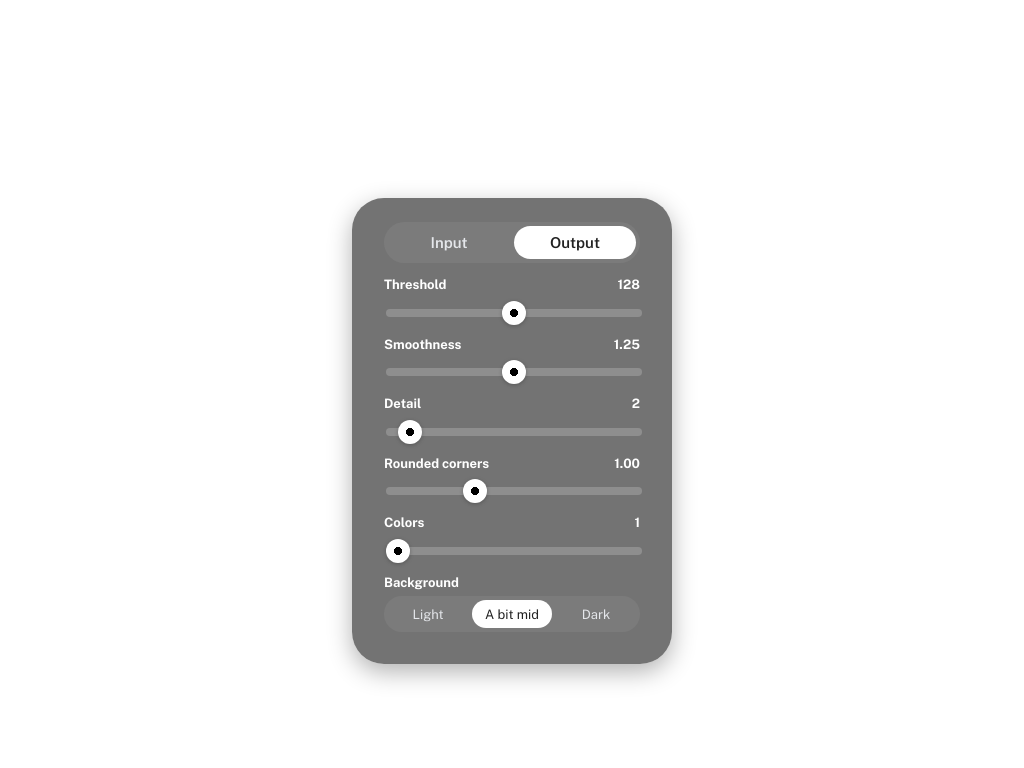
Test: SettingsPanel › shows Contrast and Saturation on Input tab
This screenshot has width=1024, height=768.
What coordinates should you click on to do the following:
click the tab "Input"
I would click on:
 (449, 243)
Its box is [388,226,510,259].
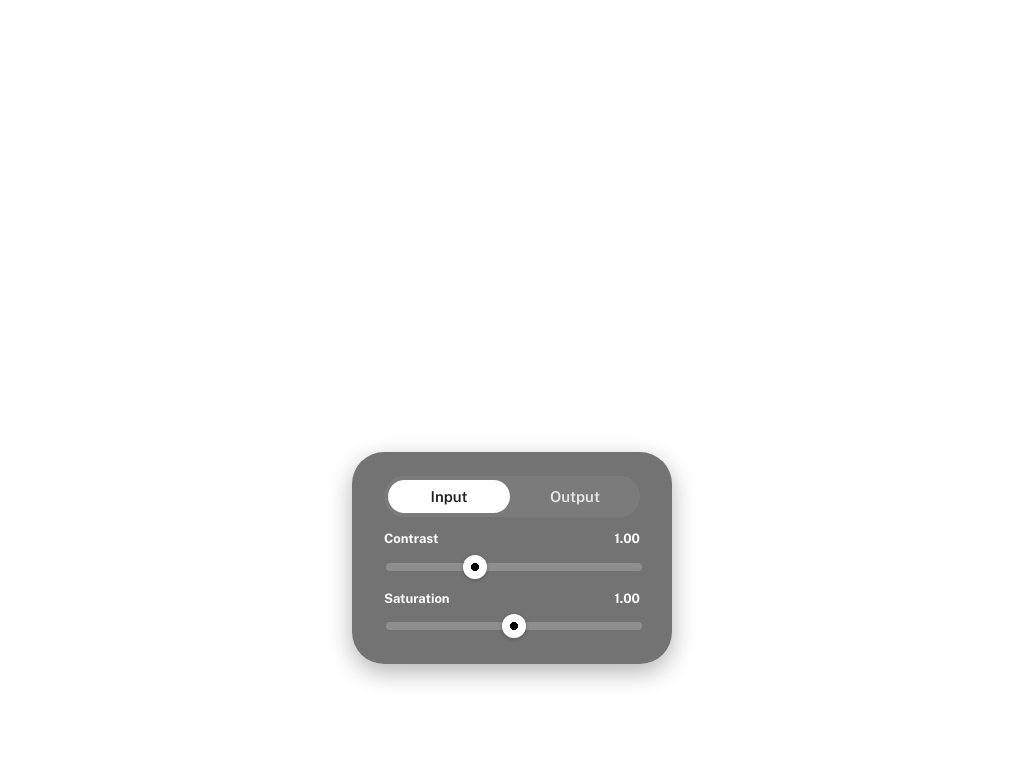
Now the slider labelled "Contrast" is shown, box [386,562,642,570]
Now the slider labelled "Saturation" is shown, box [386,622,642,630]
